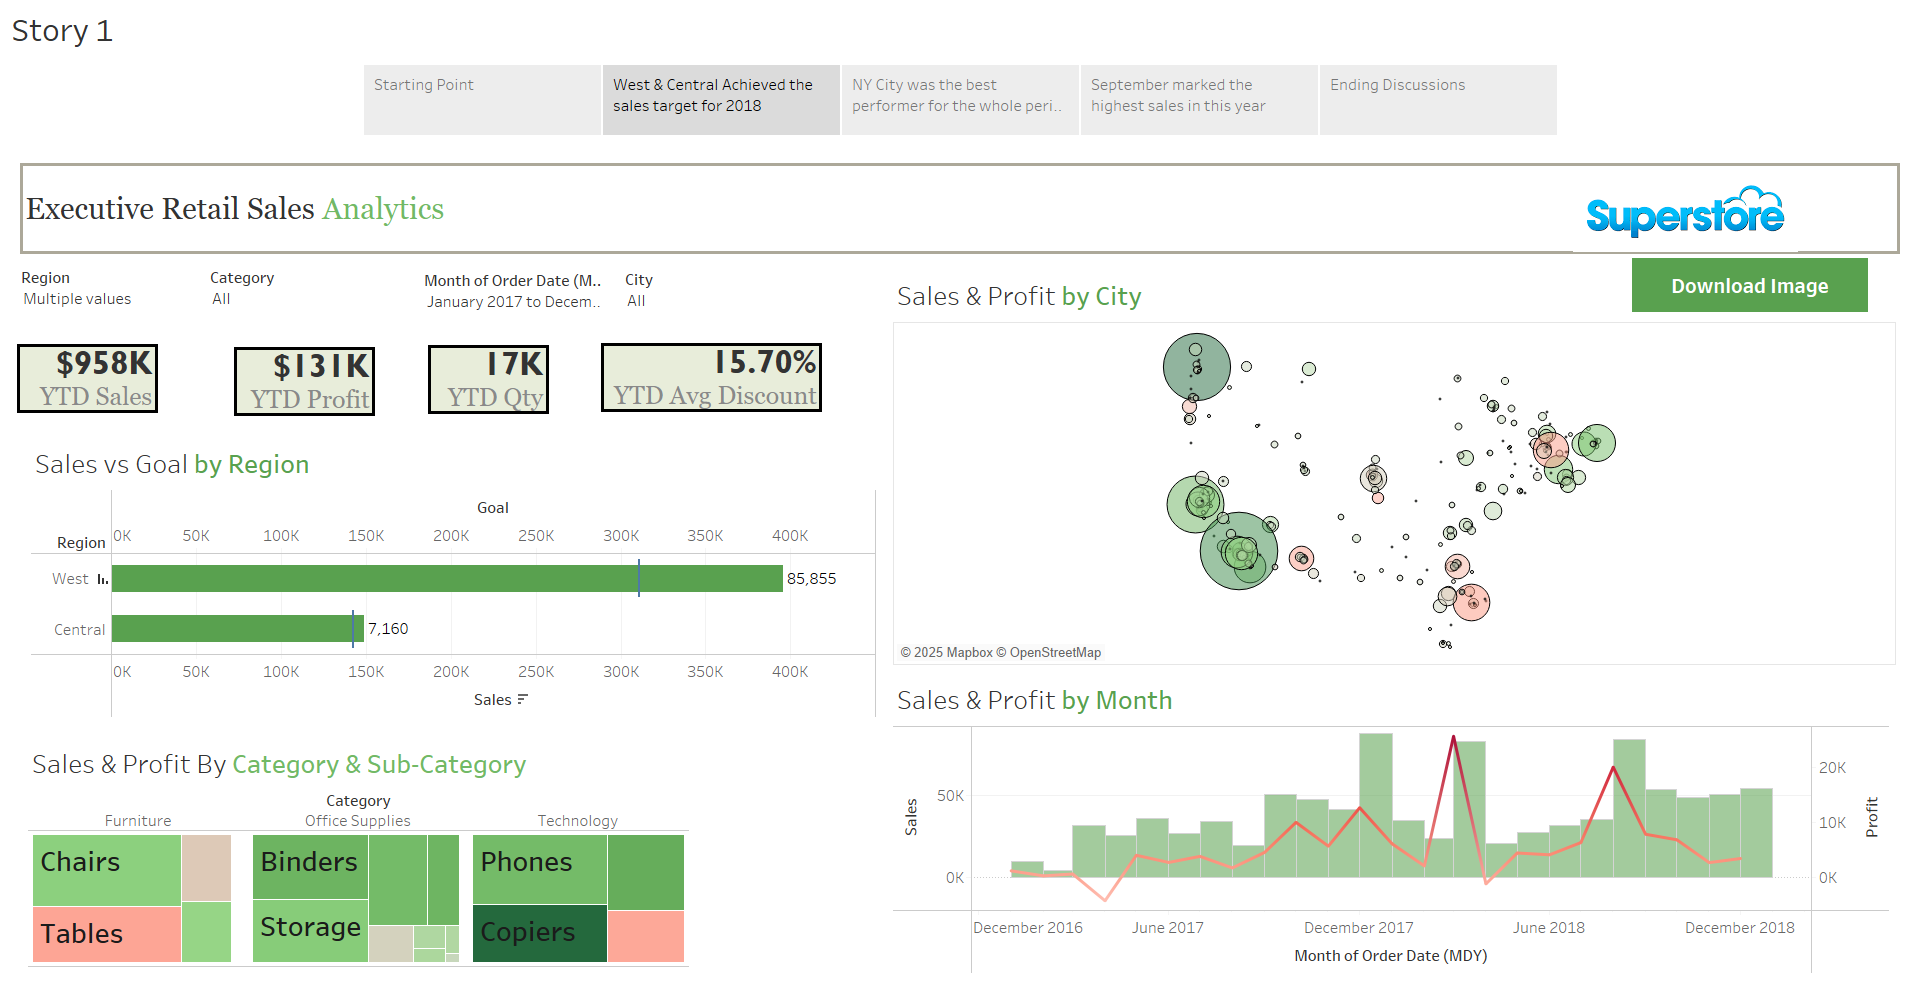

This screenshot's page, from the dashboard's own definition file:
{"tool":"tableau","page":{"name":"Dashboard 1","canvas":[1000,1000],"units":"permille","ordinal":0},"visuals":[{"type":"title","box":[4.8,10,990.3,123.6]},{"type":"image","param":"Image/t_imh.png","box":[775.5,22.5,210.6,98.6]},{"type":"dashboard-object","box":[852.8,128.6,124.3,64.9]},{"type":"filter","title":"Sheet 2","param":"[federated.1h5nw2a0w27rbx18ib2c70pwjhpy].[none:Region:nk]","box":[6.6,137.3,96.6,79.9]},{"type":"filter","title":"Sheet 3","param":"[federated.1h5nw2a0w27rbx18ib2c70pwjhpy].[none:Category:nk]","box":[106.2,137.3,97.8,83.7]},{"type":"filter","title":"Sheet 5","param":"[federated.1h5nw2a0w27rbx18ib2c70pwjhpy].[none:City:nk]","box":[324.1,139.8,124.3,73.7]},{"type":"filter","title":"Sheet 4","param":"[federated.1h5nw2a0w27rbx18ib2c70pwjhpy].[tmn:Order Date (MDY):qk]","box":[218.5,141.1,96.6,81.2]},{"type":"worksheet","title":"Sheet 5","mark":"Automatic","box":[464.7,144.8,526.9,470.7]},{"type":"worksheet","title":"Sheet 6 (4)","mark":"Automatic","box":[310.8,228.5,135.8,112.4]},{"type":"worksheet","title":"Sheet 6","mark":"Automatic","box":[4.2,229.7,108.6,99.9]},{"type":"worksheet","title":"Sheet 6 (3)","mark":"Automatic","box":[220.3,231,83.3,108.6]},{"type":"worksheet","title":"Sheet 6 (2)","mark":"Automatic","box":[118.3,233.5,89.9,98.6]},{"type":"worksheet","title":"Sheet 2","mark":"Automatic","rows":["Region"],"cols":["Sales","Goal"],"box":[12.1,347.1,443.6,333.3]},{"type":"worksheet","title":"Sheet 4","mark":"Automatic","rows":["Sales","Profit"],"cols":["Order Date (MDY)"],"box":[464.7,629.2,523.8,357.1]},{"type":"worksheet","title":"Sheet 3","mark":"Automatic","cols":["Category"],"box":[10.3,706.6,444.2,273.4]}]}

Visuals, with their boxes on the dashboard's canvas, which has no fixed pixel size, in thousandths of its width and height (x1, y1, x2, y2). These are canvas units, not pixel positions in the 1920x993 screenshot, which may show the page scaled, cropped or inside an application window:
title: bbox=(5, 10, 995, 134)
image: bbox=(776, 22, 986, 121)
dashboard-object: bbox=(853, 129, 977, 194)
"Sheet 2" filter: bbox=(7, 137, 103, 217)
"Sheet 3" filter: bbox=(106, 137, 204, 221)
"Sheet 5" filter: bbox=(324, 140, 448, 214)
"Sheet 4" filter: bbox=(218, 141, 315, 222)
"Sheet 5" worksheet: bbox=(465, 145, 992, 616)
"Sheet 6 (4)" worksheet: bbox=(311, 228, 447, 341)
"Sheet 6" worksheet: bbox=(4, 230, 113, 330)
"Sheet 6 (3)" worksheet: bbox=(220, 231, 304, 340)
"Sheet 6 (2)" worksheet: bbox=(118, 234, 208, 332)
"Sheet 2" worksheet: bbox=(12, 347, 456, 680)
"Sheet 4" worksheet: bbox=(465, 629, 988, 986)
"Sheet 3" worksheet: bbox=(10, 707, 454, 980)
